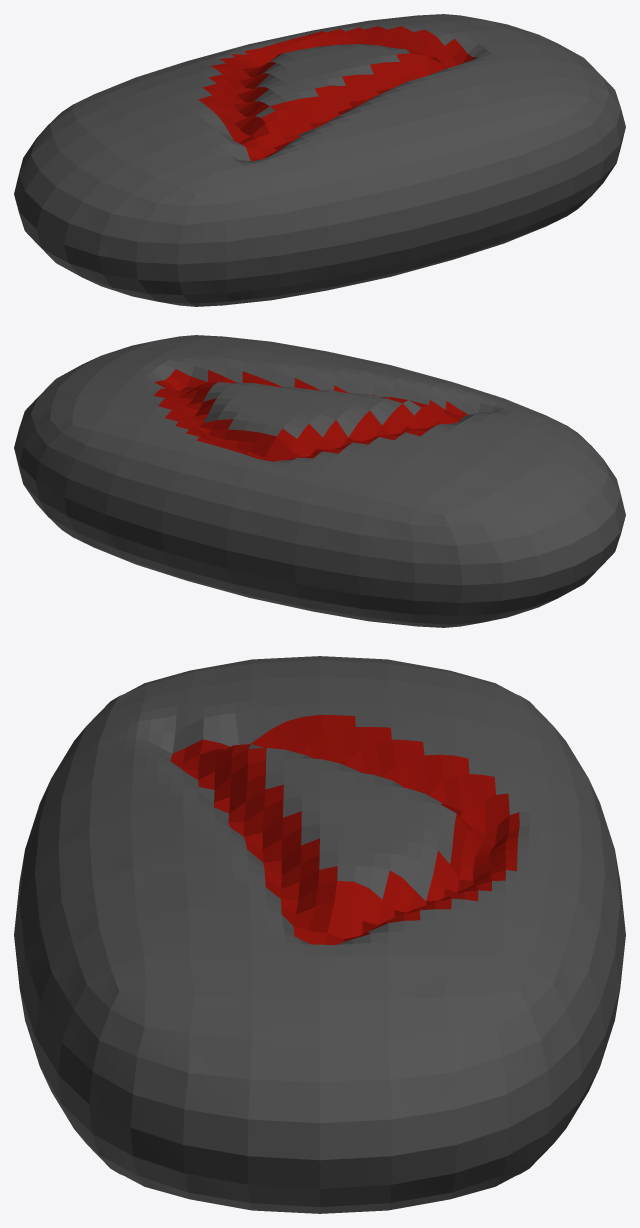
File: Sigil_D.fbx
3 renders of one model, top to bottom at view 1: azimuth 30°, elevation 25°; view 2: azimuth 150°, elevation 25°; view 3: azimuth 270°, elevation 25°, orthographic. The views are drawn at different scales.
Visible parts, largest first — view 1: Sigil_D; view 2: Sigil_D; view 3: Sigil_D.
Boxes of the visible parts, x1,y1,x2,y2 form: Sigil_D: (14,14,625,306); Sigil_D: (14,335,625,627); Sigil_D: (14,656,625,1213).
Size of the model in its own units: 59.86 by 17.27 by 34.36.
